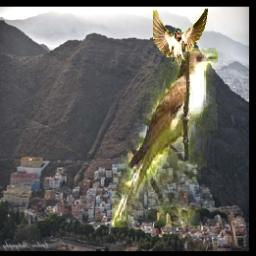Cuckoo: (112, 48, 218, 227)
Swallow: (152, 10, 208, 68)
